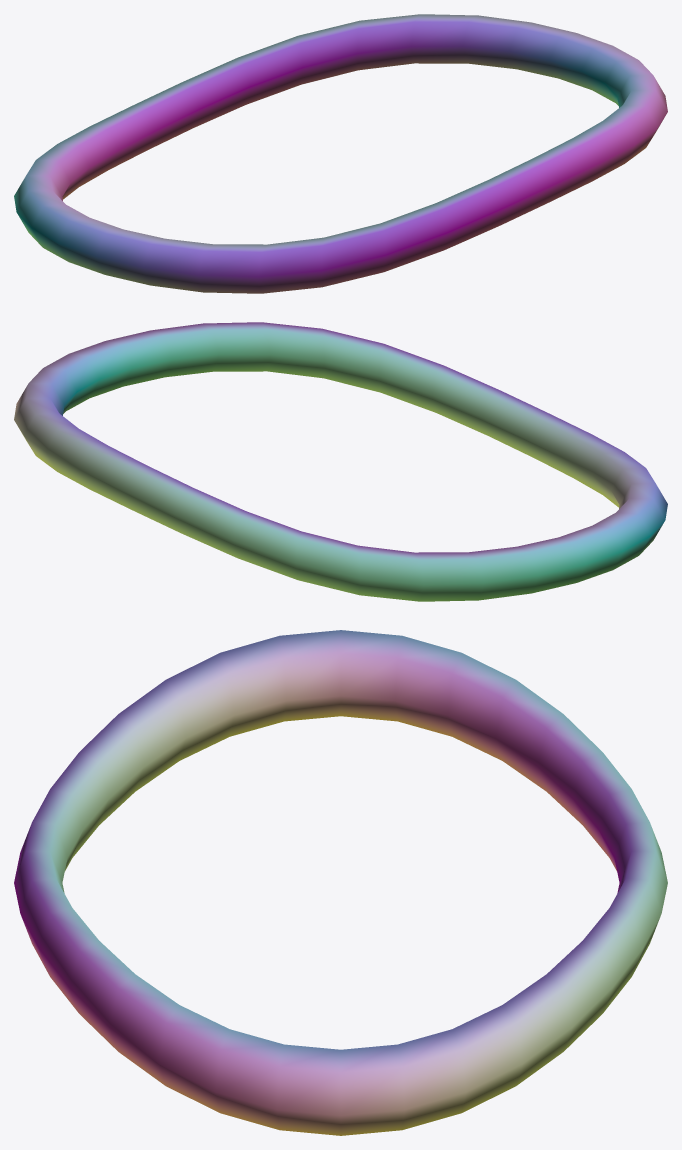
The model's file is env_deco_band.glb.
3 renders of one model, top to bottom at view 1: azimuth 30°, elevation 25°; view 2: azimuth 150°, elevation 25°; view 3: azimuth 270°, elevation 25°, orthographic. The views are drawn at different scales.
Parts seen in each view (by area): view 1: env_deco_band_mesh; view 2: env_deco_band_mesh; view 3: env_deco_band_mesh.
Part boxes in pixels (x1=…): env_deco_band_mesh: x1=14, y1=14, x2=667, y2=293; env_deco_band_mesh: x1=14, y1=322, x2=667, y2=601; env_deco_band_mesh: x1=14, y1=630, x2=667, y2=1135.
Bounding box in the file's own units: 0.324 × 0.0368 × 0.1944.
